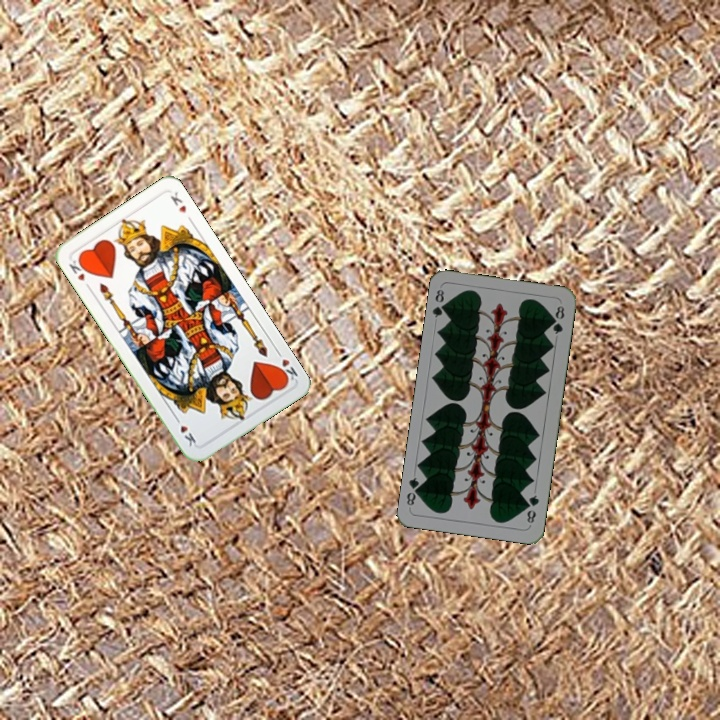G8: (428, 285, 450, 320), (523, 491, 542, 528)
HK: (272, 346, 301, 385), (65, 254, 91, 284)
